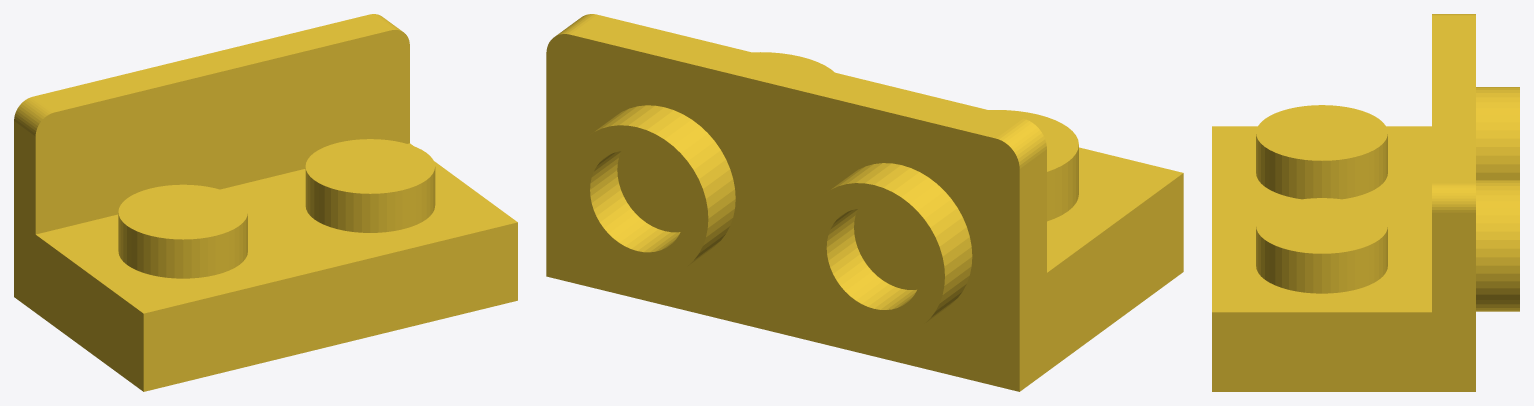
The picture shows the model from 3 angles, left to right: view 1: azimuth 30°, elevation 25°; view 2: azimuth 150°, elevation 25°; view 3: azimuth 270°, elevation 25°; orthographic projection. The views are drawn at different scales.
Visible parts, largest first — view 1: box2_7, rect3_2, mesh_50, box2_11, _4_4disc_1, _4_4disc_2, _1_4cyli_7, _1_4cyli_11, _1_4cyli_12, _1_4cyli_8, _1_4cyli_4; view 2: mesh_50, box2_11, _4_4ring2_1, _4_4ring2, box2_7, _1_4cyli_20, _1_4cyli_28, _1_4cyli_14, _1_4cyli_22, _4_4disc_1, _1_4cyli_4, _1_4cyli_6 (+7 smaller); view 3: mesh_50, box2_7, box2_11, _4_4disc_1, _4_4disc_2, _1_4cyli_29, _1_4cyli_21, _1_4cyli_12, _1_4cyli_13, _1_4cyli_8, _1_4cyli_9, _1_4cyli_26 (+1 smaller).
Part boxes in pixels (x1=…): box2_7: x1=35, y1=45, x2=517, y2=313; rect3_2: x1=143, y1=222, x2=517, y2=391; mesh_50: x1=14, y1=30, x2=409, y2=391; box2_11: x1=33, y1=14, x2=390, y2=112; _4_4disc_1: x1=118, y1=184, x2=247, y2=239; _4_4disc_2: x1=305, y1=139, x2=434, y2=193; _1_4cyli_7: x1=127, y1=226, x2=215, y2=278; _1_4cyli_11: x1=314, y1=180, x2=402, y2=232; _1_4cyli_12: x1=402, y1=167, x2=435, y2=228; _1_4cyli_8: x1=215, y1=214, x2=247, y2=274; _1_4cyli_4: x1=14, y1=96, x2=53, y2=136; mesh_50: x1=546, y1=53, x2=1183, y2=391; box2_11: x1=570, y1=14, x2=1022, y2=163; _4_4ring2_1: x1=566, y1=125, x2=708, y2=277; _4_4ring2: x1=803, y1=183, x2=944, y2=335; box2_7: x1=1047, y1=147, x2=1182, y2=272; _1_4cyli_20: x1=874, y1=165, x2=972, y2=276; _1_4cyli_28: x1=638, y1=107, x2=735, y2=218; _1_4cyli_14: x1=826, y1=228, x2=900, y2=308; _1_4cyli_22: x1=590, y1=170, x2=664, y2=250; _4_4disc_1: x1=989, y1=110, x2=1078, y2=171; _1_4cyli_4: x1=996, y1=118, x2=1046, y2=168; _1_4cyli_6: x1=1047, y1=162, x2=1067, y2=221; mesh_50: x1=1212, y1=212, x2=1475, y2=391; box2_7: x1=1212, y1=126, x2=1431, y2=312; box2_11: x1=1432, y1=16, x2=1475, y2=183; _4_4disc_1: x1=1256, y1=105, x2=1387, y2=160; _4_4disc_2: x1=1256, y1=198, x2=1387, y2=253; _1_4cyli_29: x1=1476, y1=186, x2=1519, y2=273; _1_4cyli_21: x1=1476, y1=93, x2=1519, y2=179; _1_4cyli_12: x1=1256, y1=227, x2=1321, y2=293; _1_4cyli_13: x1=1322, y1=227, x2=1387, y2=293; _1_4cyli_8: x1=1256, y1=134, x2=1321, y2=199; _1_4cyli_9: x1=1322, y1=134, x2=1387, y2=199; _1_4cyli_26: x1=1476, y1=273, x2=1519, y2=311.
Bounding box in the file's own units: 40 × 20 × 28.
